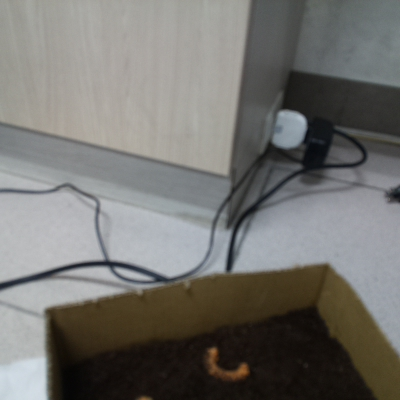eggs: (193, 337, 256, 384)
